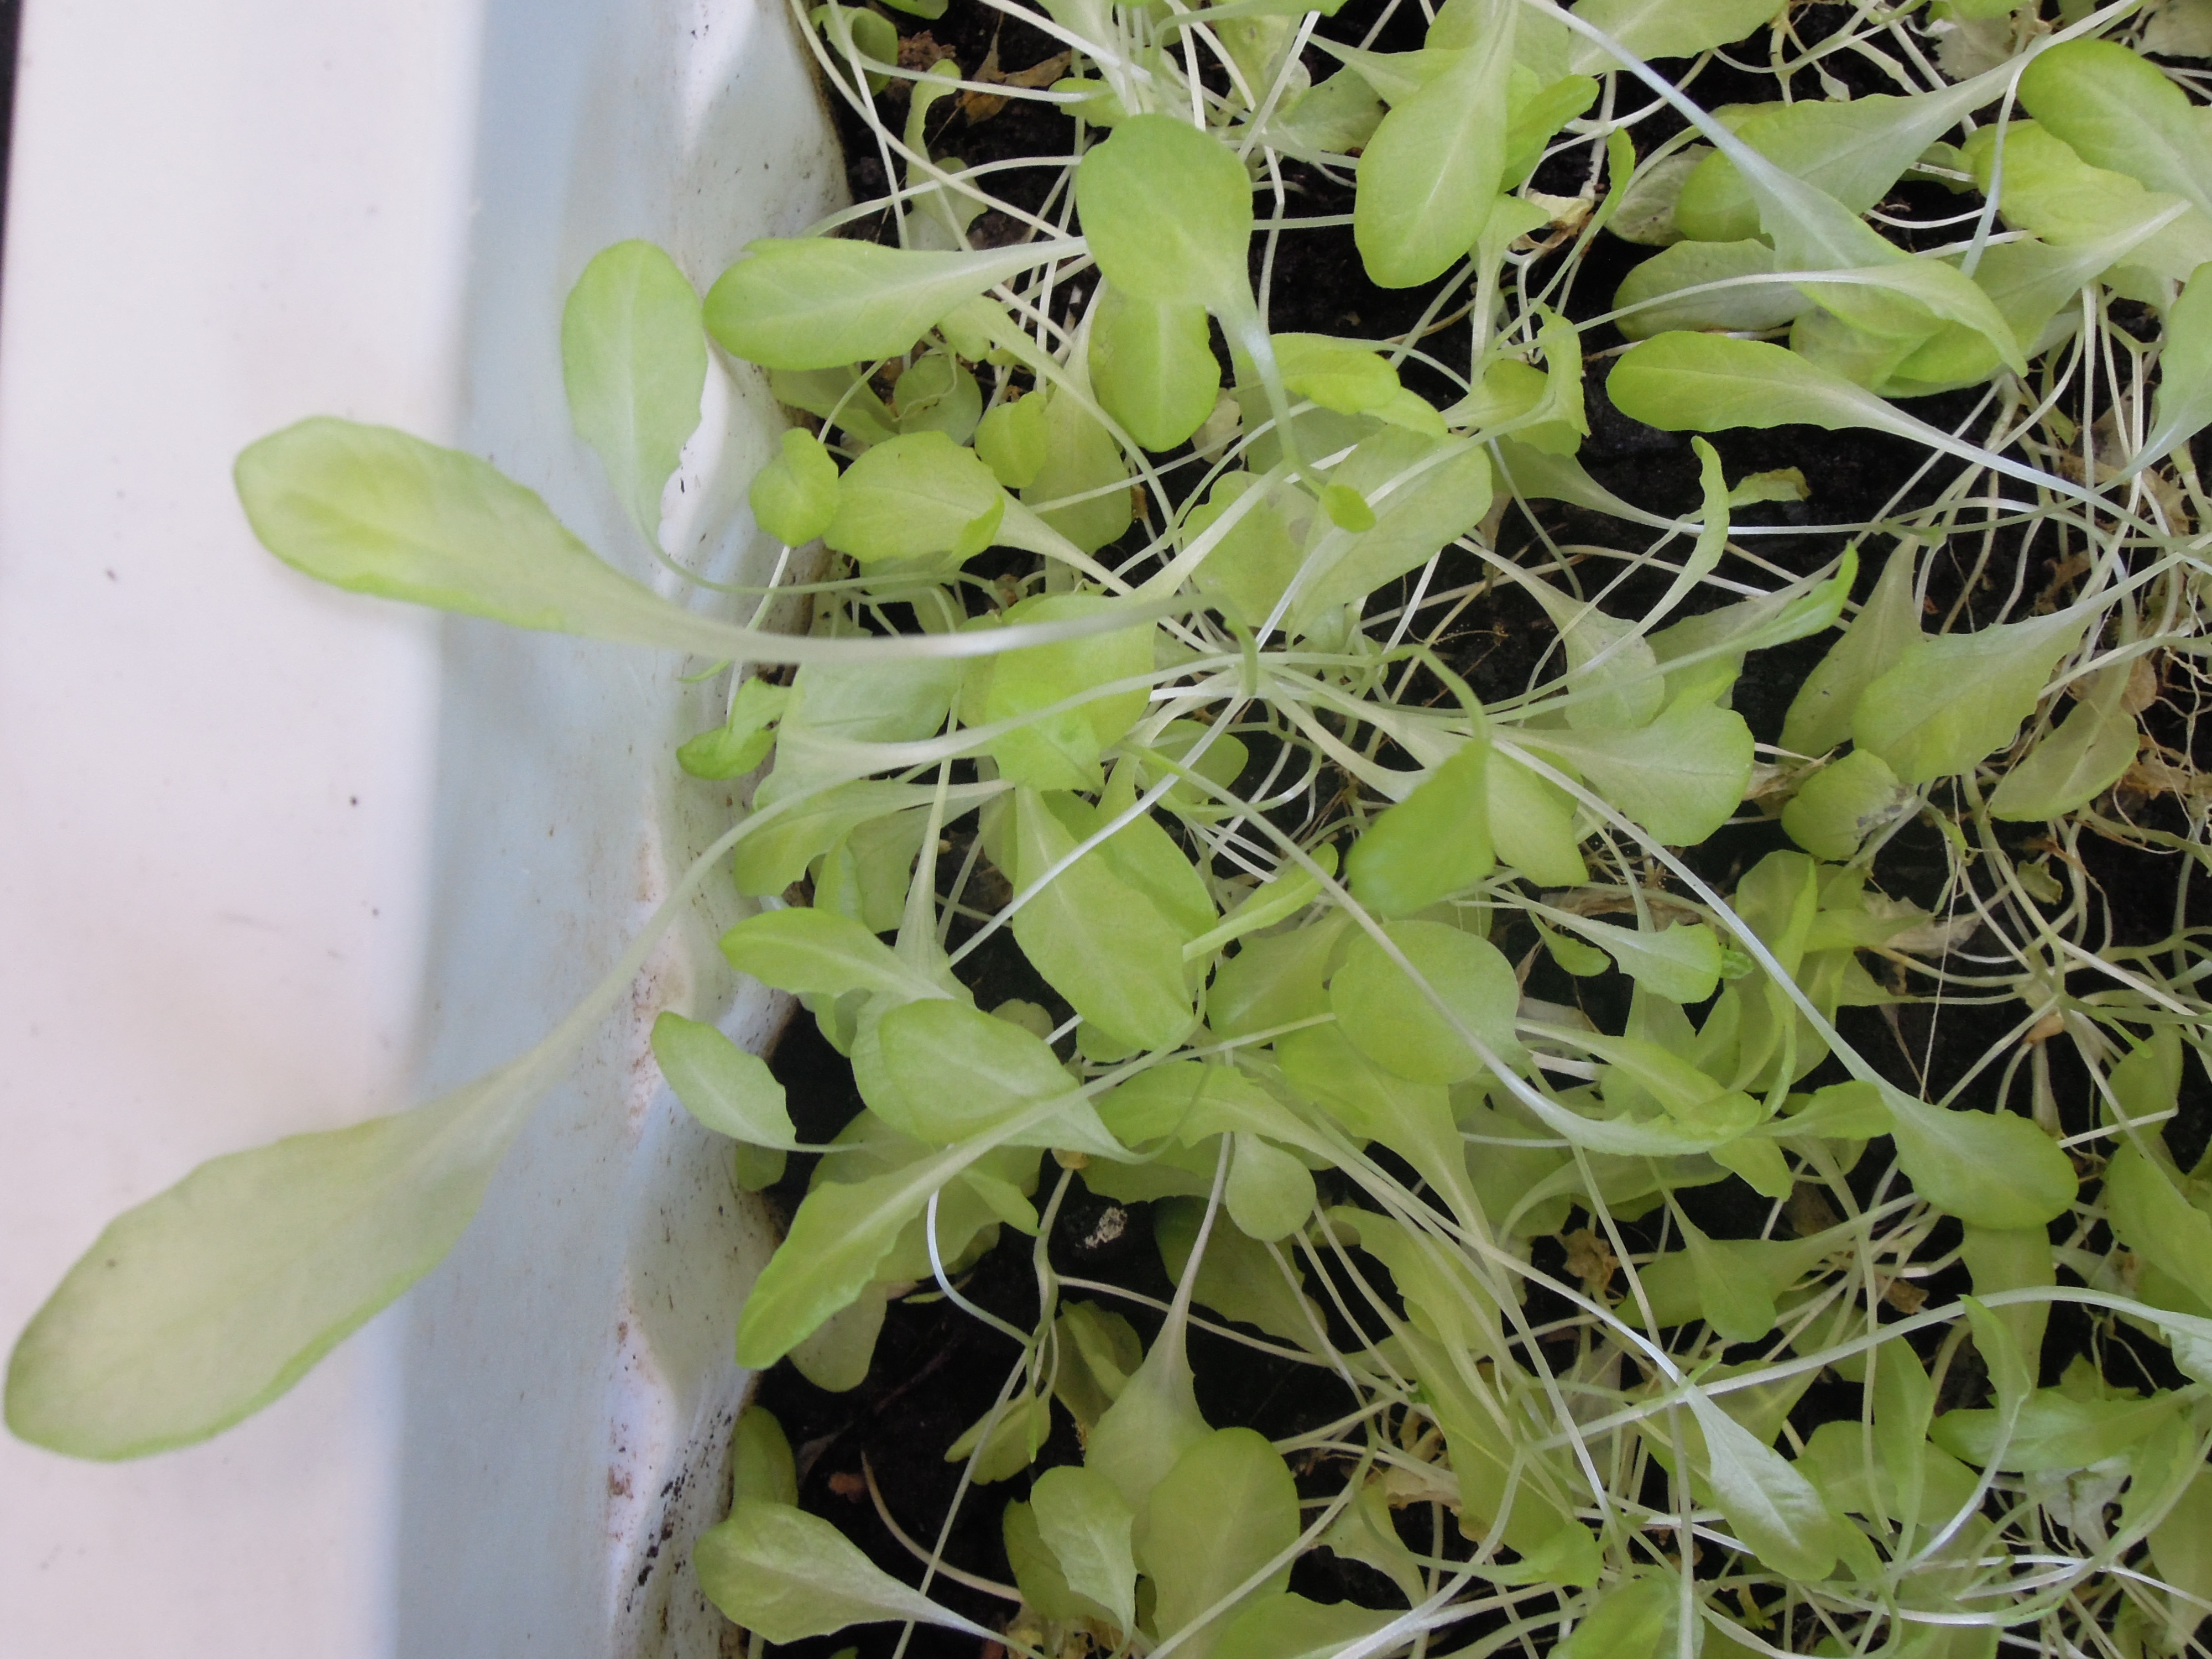weeek6: (5, 94, 2052, 1492)
